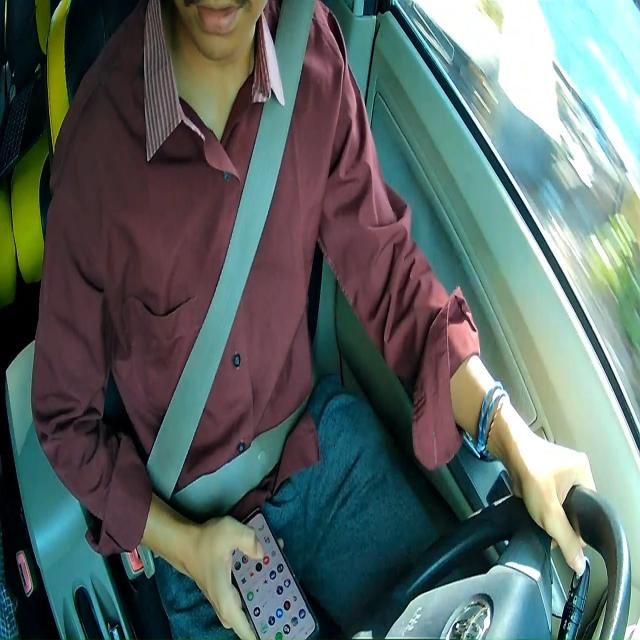phone: (231, 503, 318, 640)
